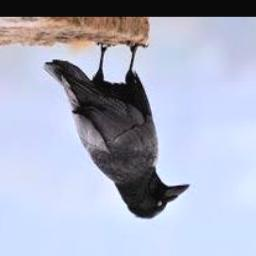Crow: (43, 42, 190, 220)
